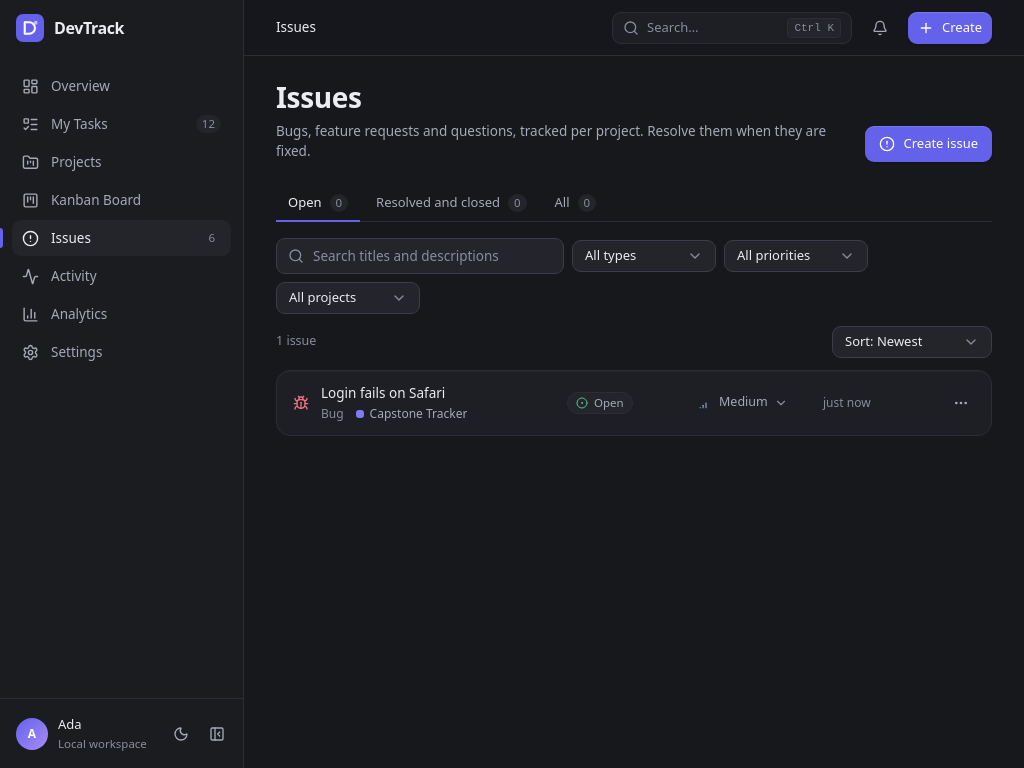
Scenario: Issues › resolves an issue from its detail drawer
Click the button "Login fails on Safari": (383,393) [321,382,445,403]
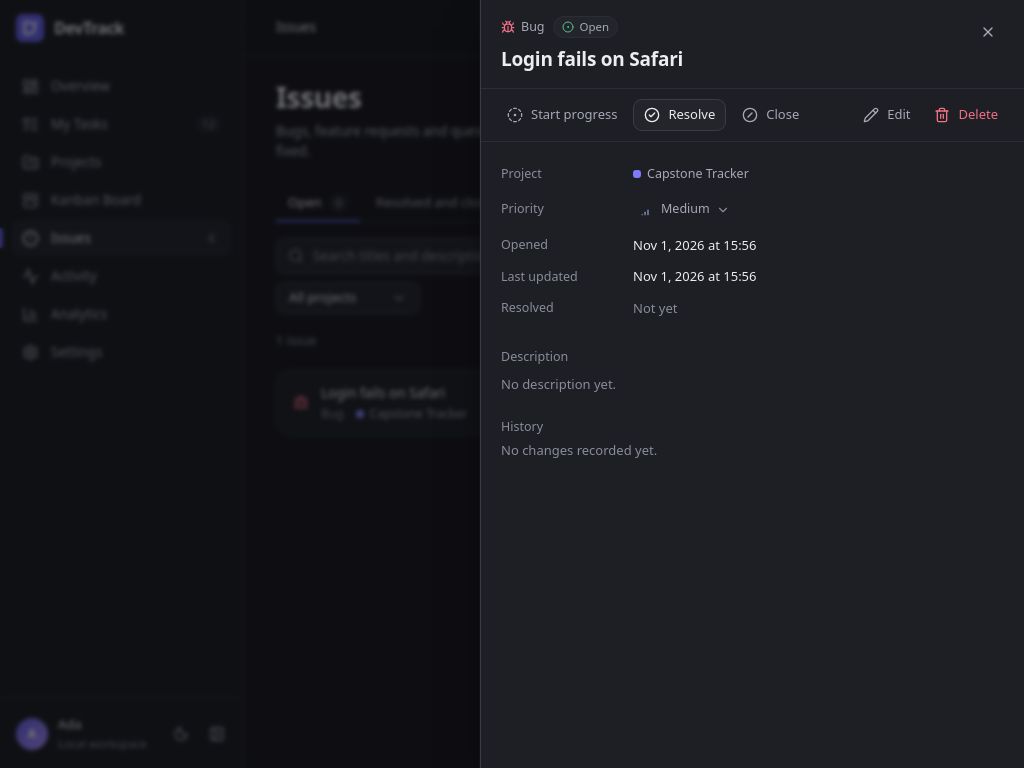
Click the button "Resolve": (680,115) [633,99,726,131]
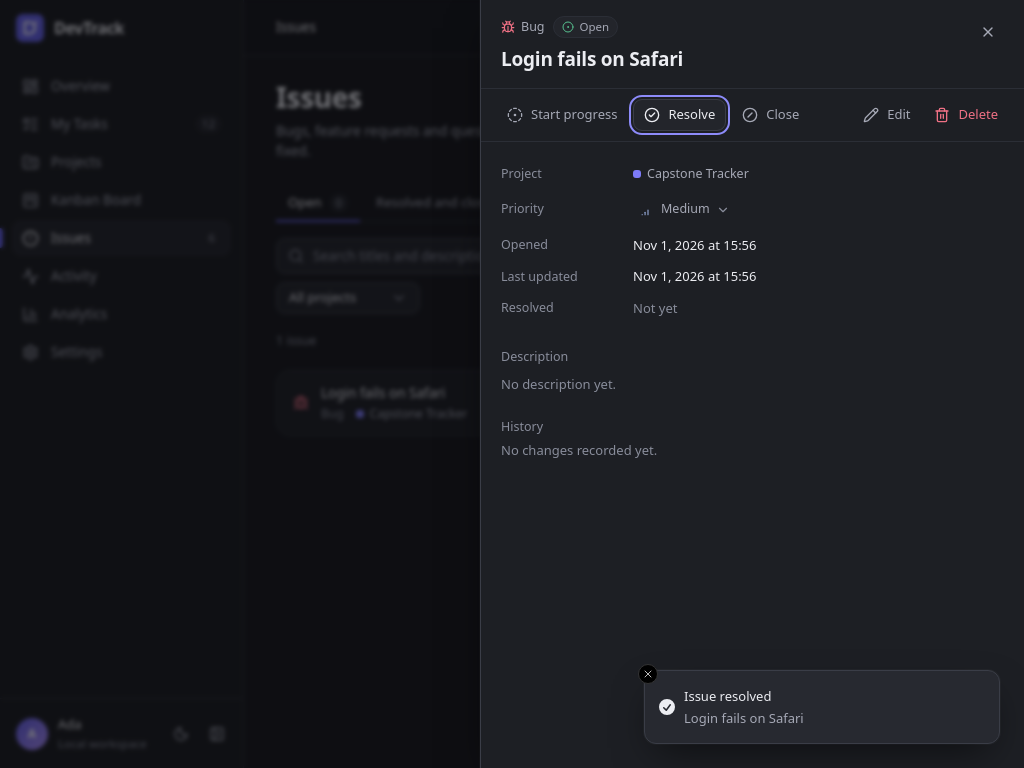
Check: the text "Issue resolved" is shown, box [684,687,771,705]
